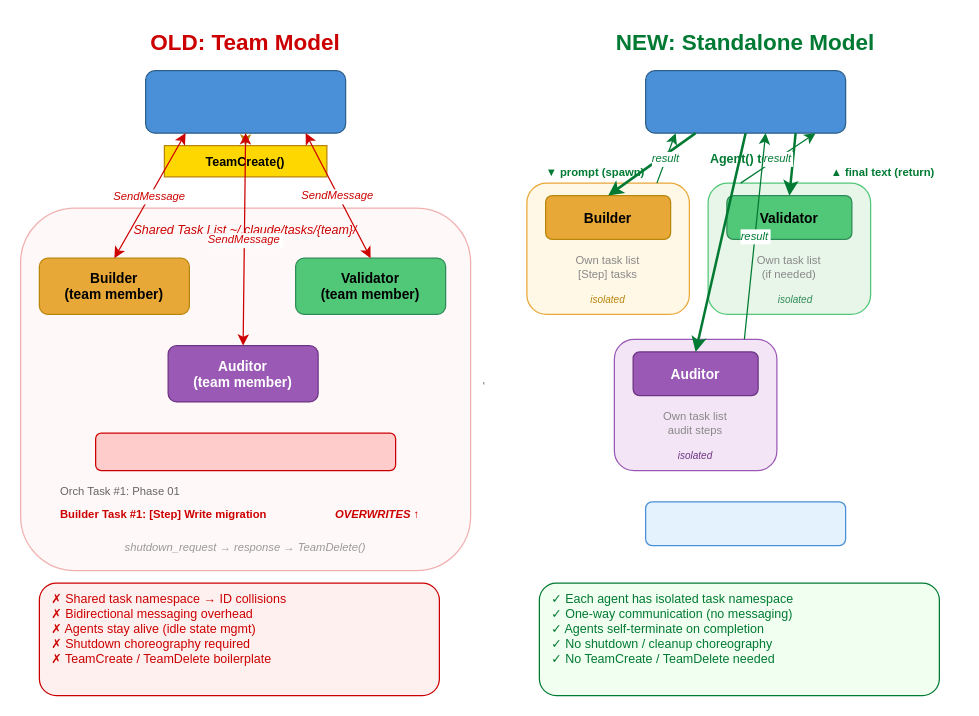
Image size: 979x716. Some labels were removed from this diagram. The centre of each missing label's shape, as x and y in pixels:
"Orchestrator" belongs at (x=745, y=101).
"Orchestrator (Team Lead)" belongs at (x=245, y=101).
"Orchestrator's task list (never polluted)" belongs at (x=745, y=523).
"💥 Task ID Collision!" belongs at (x=245, y=451).
